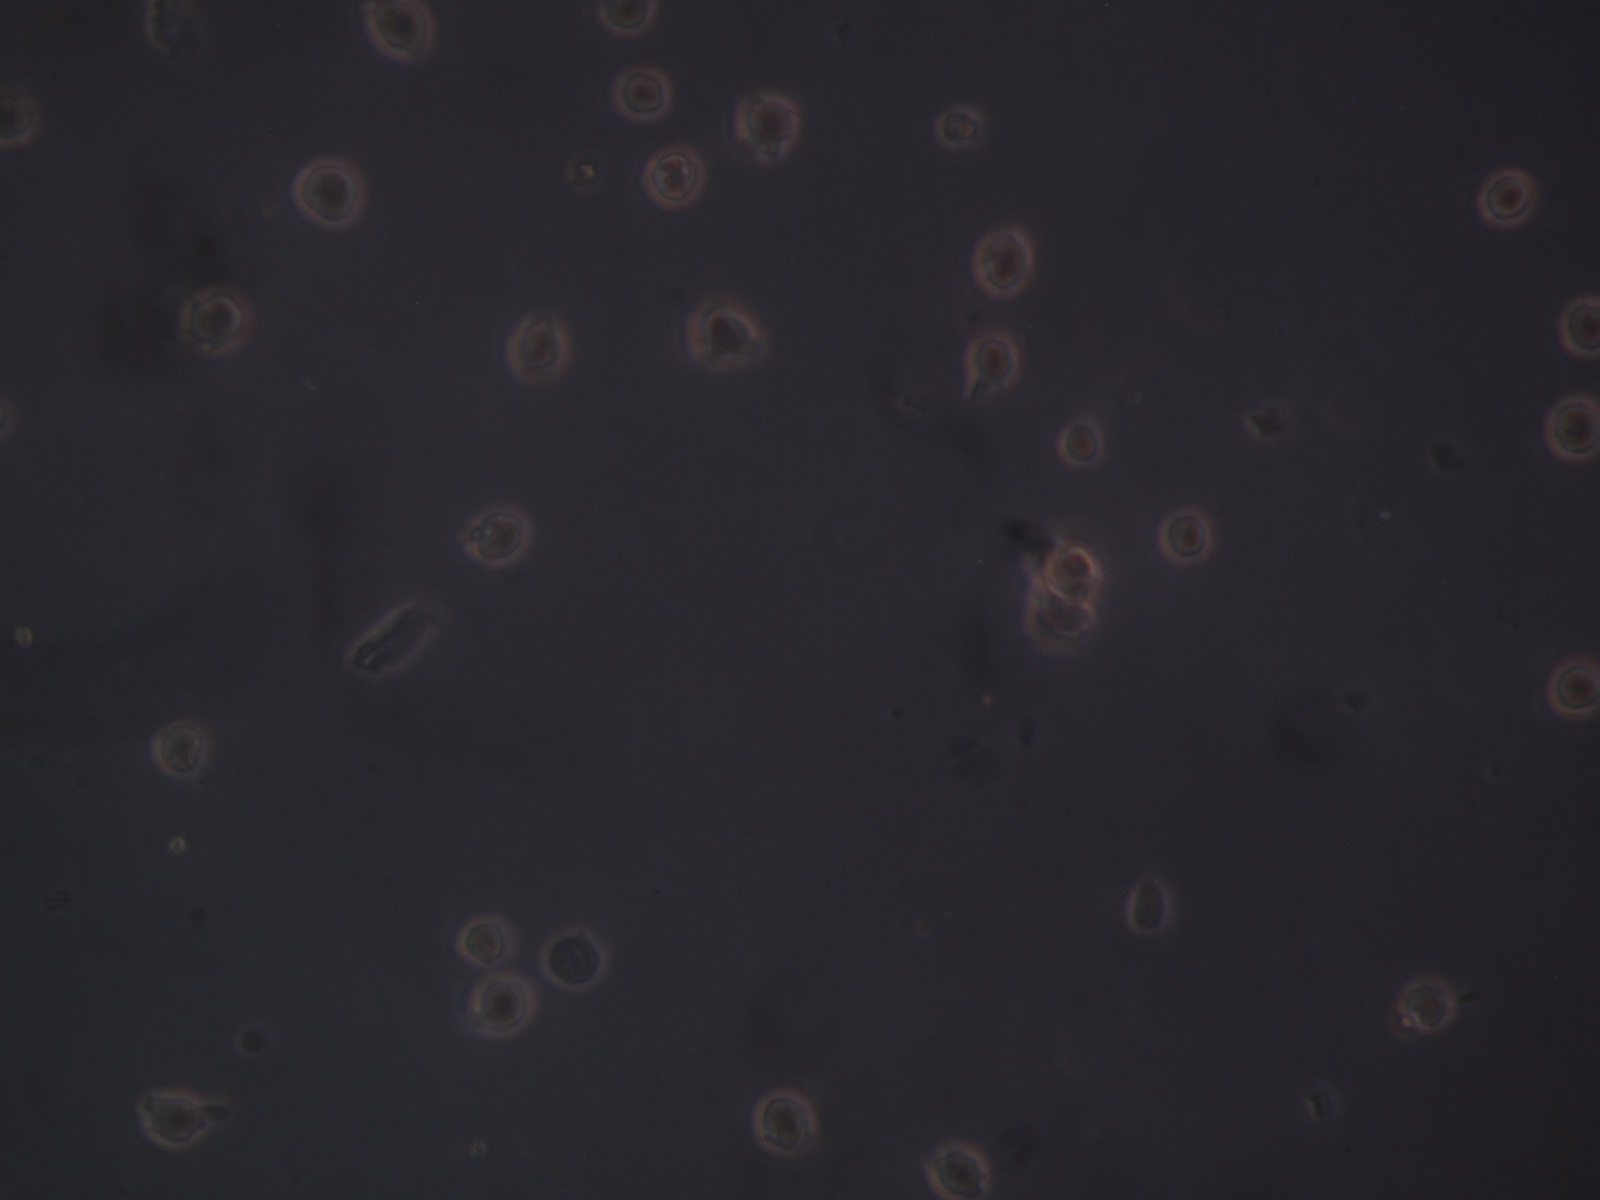hemo: (1022, 579, 1099, 659), (684, 301, 758, 376), (292, 158, 365, 229), (180, 286, 253, 357), (748, 1088, 820, 1156), (973, 226, 1034, 297), (363, 1, 436, 61), (923, 1138, 991, 1200), (465, 505, 530, 568), (733, 88, 801, 149), (539, 928, 606, 988), (506, 319, 568, 383), (643, 149, 707, 211), (472, 976, 535, 1037), (1546, 393, 1600, 464), (612, 61, 670, 124), (151, 720, 208, 783), (1545, 655, 1600, 720), (146, 1092, 207, 1146), (1479, 169, 1533, 226), (1043, 545, 1101, 597), (963, 334, 1020, 387), (1160, 508, 1213, 565), (455, 916, 513, 968), (1402, 981, 1454, 1032), (1561, 294, 1600, 358), (1129, 880, 1173, 937), (1054, 421, 1104, 469), (935, 102, 981, 147), (596, 1, 656, 33)
